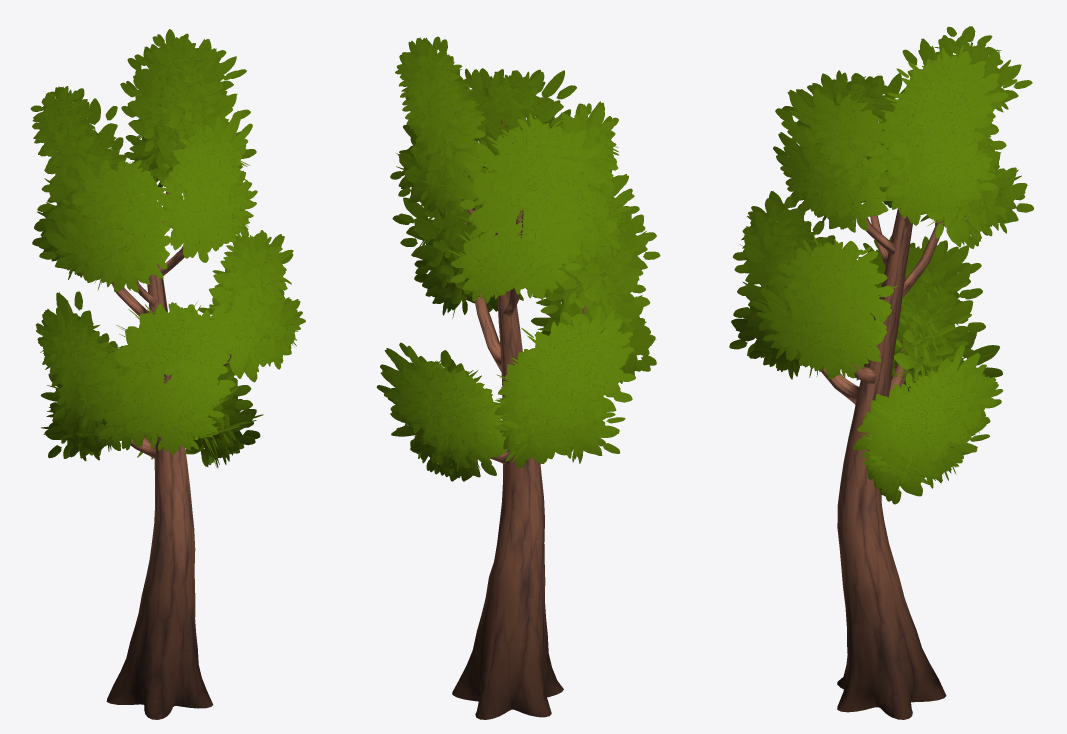
File: CommonTree_3.gltf
3 views of the same model, side by side, from view 1: azimuth 30°, elevation 25°; view 2: azimuth 150°, elevation 25°; view 3: azimuth 270°, elevation 25° (orthographic). The views are drawn at different scales.
Visible parts, largest first — view 1: CommonTree_3; view 2: CommonTree_3; view 3: CommonTree_3.
Part boxes in pixels (x1,y1,x2,y2): CommonTree_3: (30,29,305,719); CommonTree_3: (376,36,660,719); CommonTree_3: (729,26,1033,719).
Bounding box in the file's own units: 4.06 × 9.43 × 4.24.
2 materials, 2 textured.
